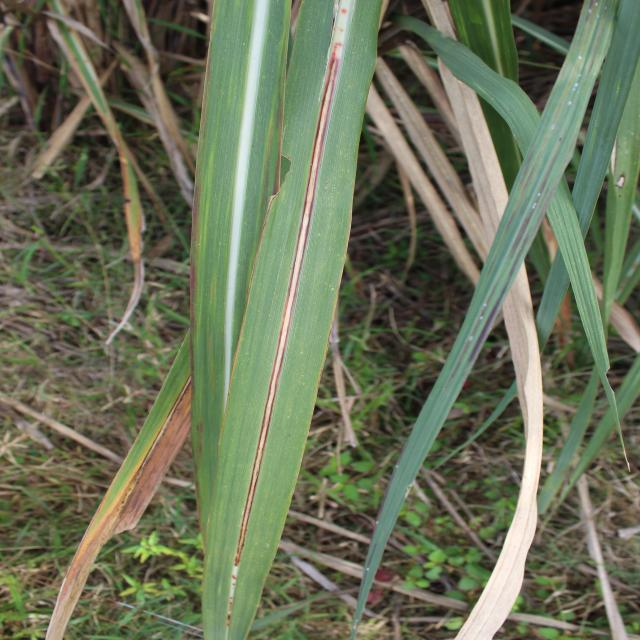Sugarcane: (353, 7, 640, 639), (185, 3, 377, 640)
